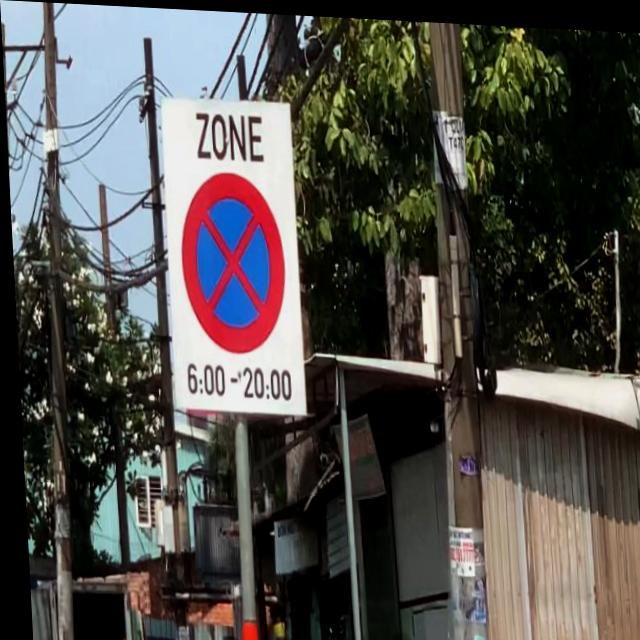Cam dung xe va do xe: (172, 160, 290, 359)
